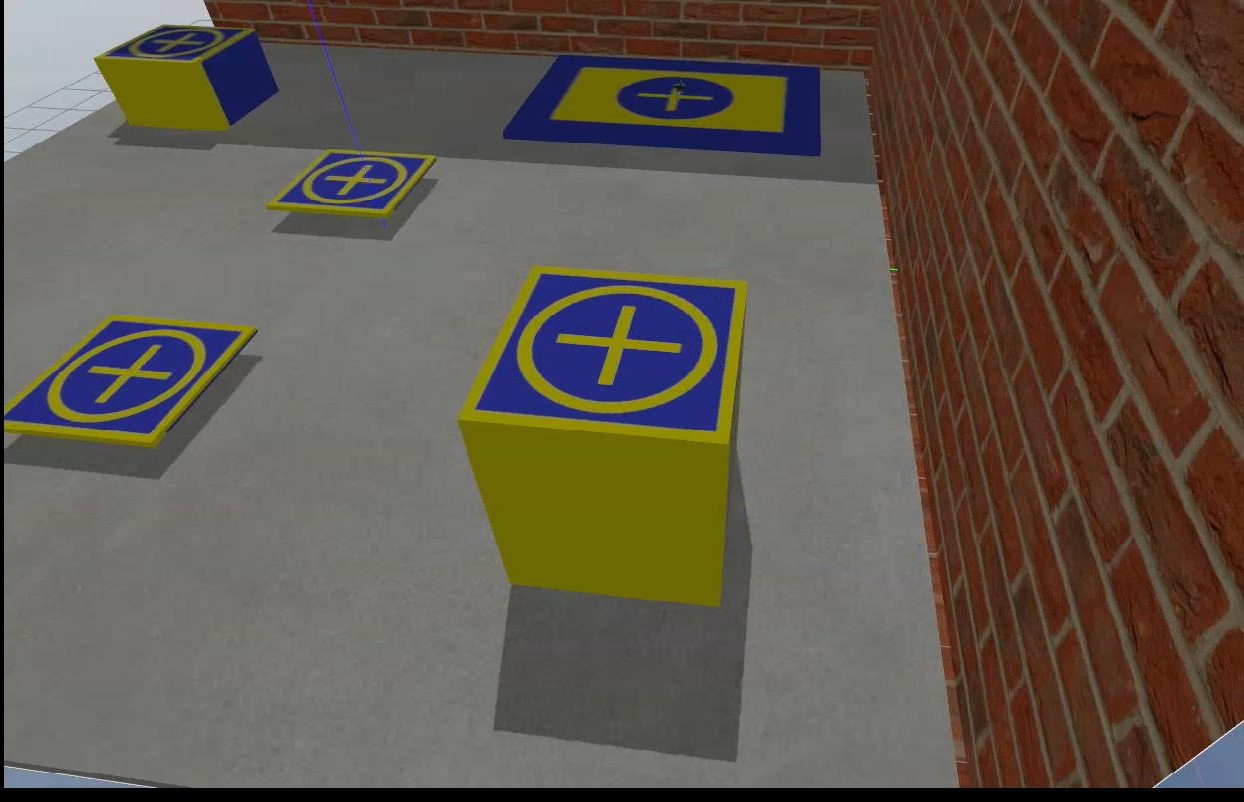large_base: (499, 55, 819, 161), (90, 22, 255, 73)
small_base: (456, 268, 747, 449), (1, 310, 255, 449), (265, 147, 436, 220)
